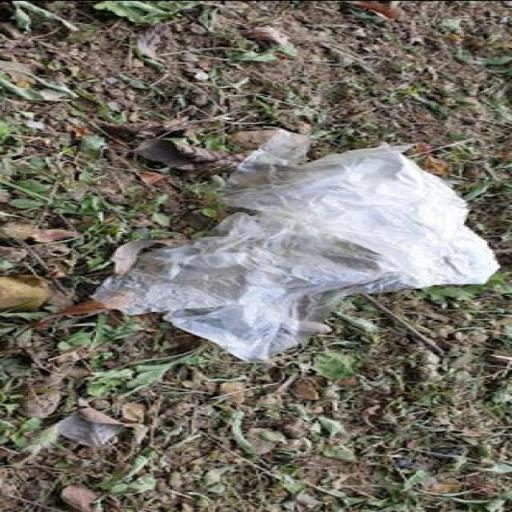plastic-bag: (84, 128, 501, 362)
